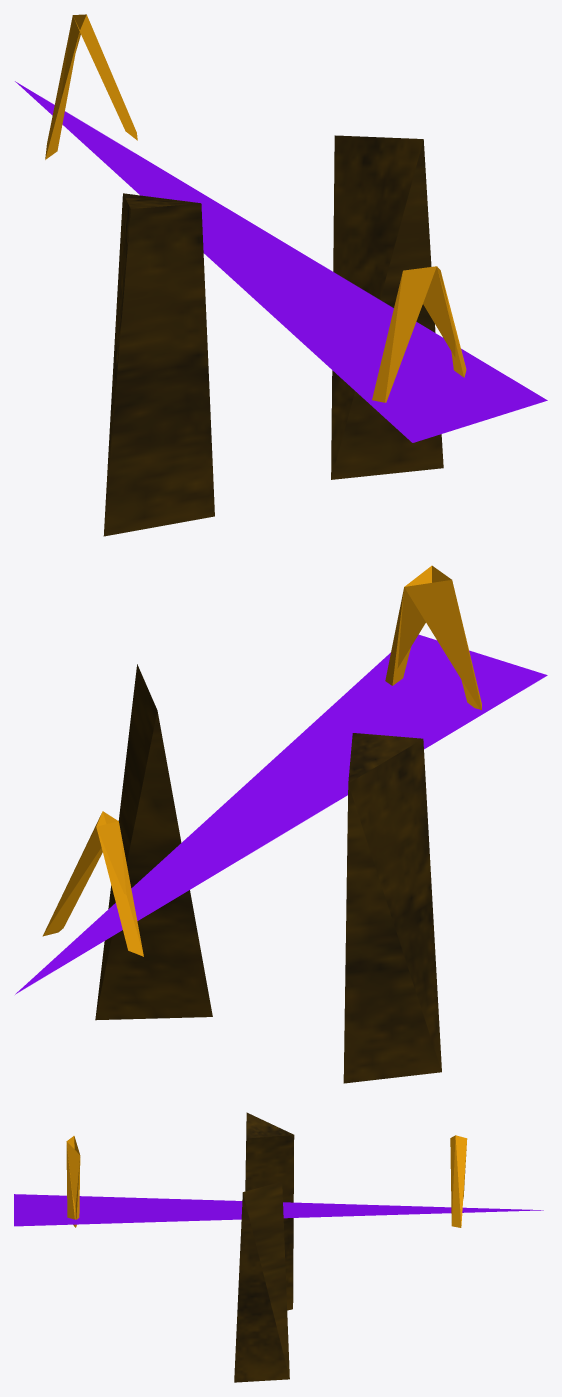
The model's file is GangorraRoxaLOD2.fbx.
The picture shows the model from 3 angles, top to bottom: view 1: azimuth 30°, elevation 25°; view 2: azimuth 150°, elevation 25°; view 3: azimuth 270°, elevation 25°; orthographic projection. The views are drawn at different scales.
Visible parts, largest first — view 1: GangorraRoxaLOD2; view 2: GangorraRoxaLOD2; view 3: GangorraRoxaLOD2.
Boxes of the visible parts, bbox=[...] form: GangorraRoxaLOD2: bbox=[15, 14, 547, 536]; GangorraRoxaLOD2: bbox=[15, 565, 547, 1083]; GangorraRoxaLOD2: bbox=[14, 1112, 543, 1382].
Bounding box in the file's own units: 62.57 × 64.87 × 156.
